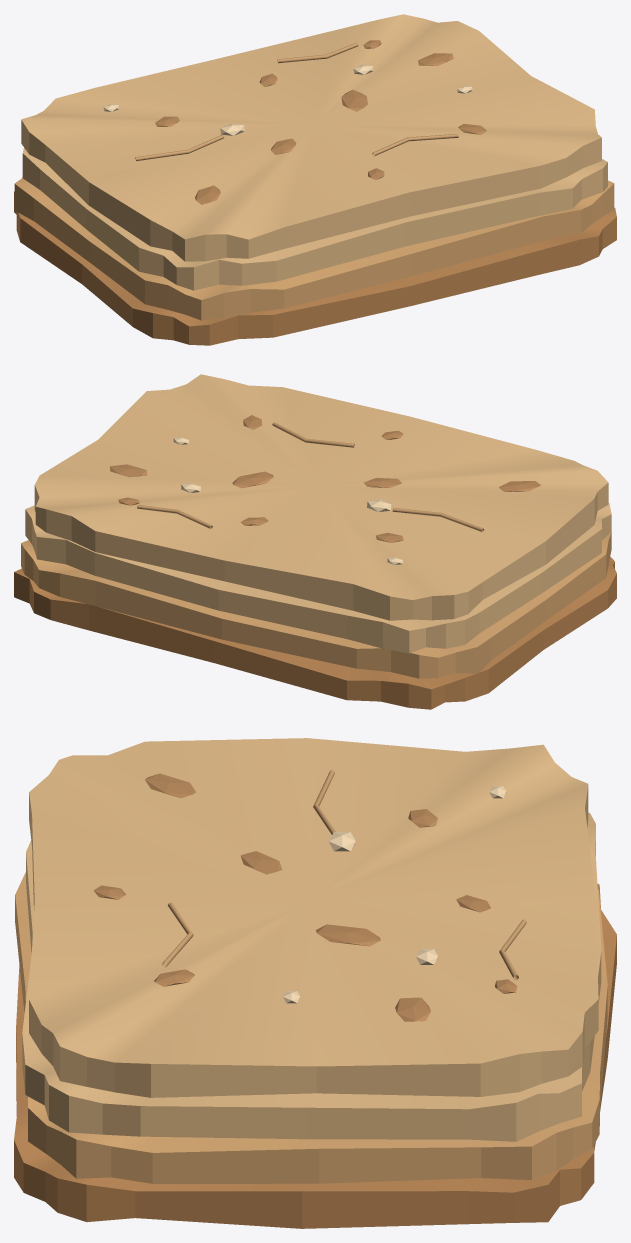
The model's file is fishcake.glb.
The picture shows the model from 3 angles, top to bottom: view 1: azimuth 30°, elevation 25°; view 2: azimuth 150°, elevation 25°; view 3: azimuth 270°, elevation 25°; orthographic projection. The views are drawn at different scales.
Parts seen in each view (by area): view 1: fishcake_layer_3, fishcake_layer_1, fishcake_layer_0, fishcake_layer_2; view 2: fishcake_layer_3, fishcake_layer_1, fishcake_layer_0, fishcake_layer_2; view 3: fishcake_layer_3, fishcake_layer_1, fishcake_layer_0, fishcake_layer_2, toast_4, toast_0, toast_6.
Boxes of the visible parts, x1,y1,x2,y2 form: fishcake_layer_3: (21,14,601,261); fishcake_layer_1: (14,177,614,320); fishcake_layer_0: (14,191,616,345); fishcake_layer_2: (22,148,607,290); fishcake_layer_3: (34,374,608,620); fishcake_layer_1: (21,532,611,678); fishcake_layer_0: (14,557,616,709); fishcake_layer_2: (25,503,611,653); fishcake_layer_3: (29,738,598,1097); fishcake_layer_1: (15,872,607,1183); fishcake_layer_0: (14,883,616,1228); fishcake_layer_2: (22,812,601,1141); toast_4: (315,924,380,946); toast_0: (145,773,195,798); toast_6: (395,997,430,1021).
Bounding box in the file's own units: 0.3993 × 0.0948 × 0.2984.
